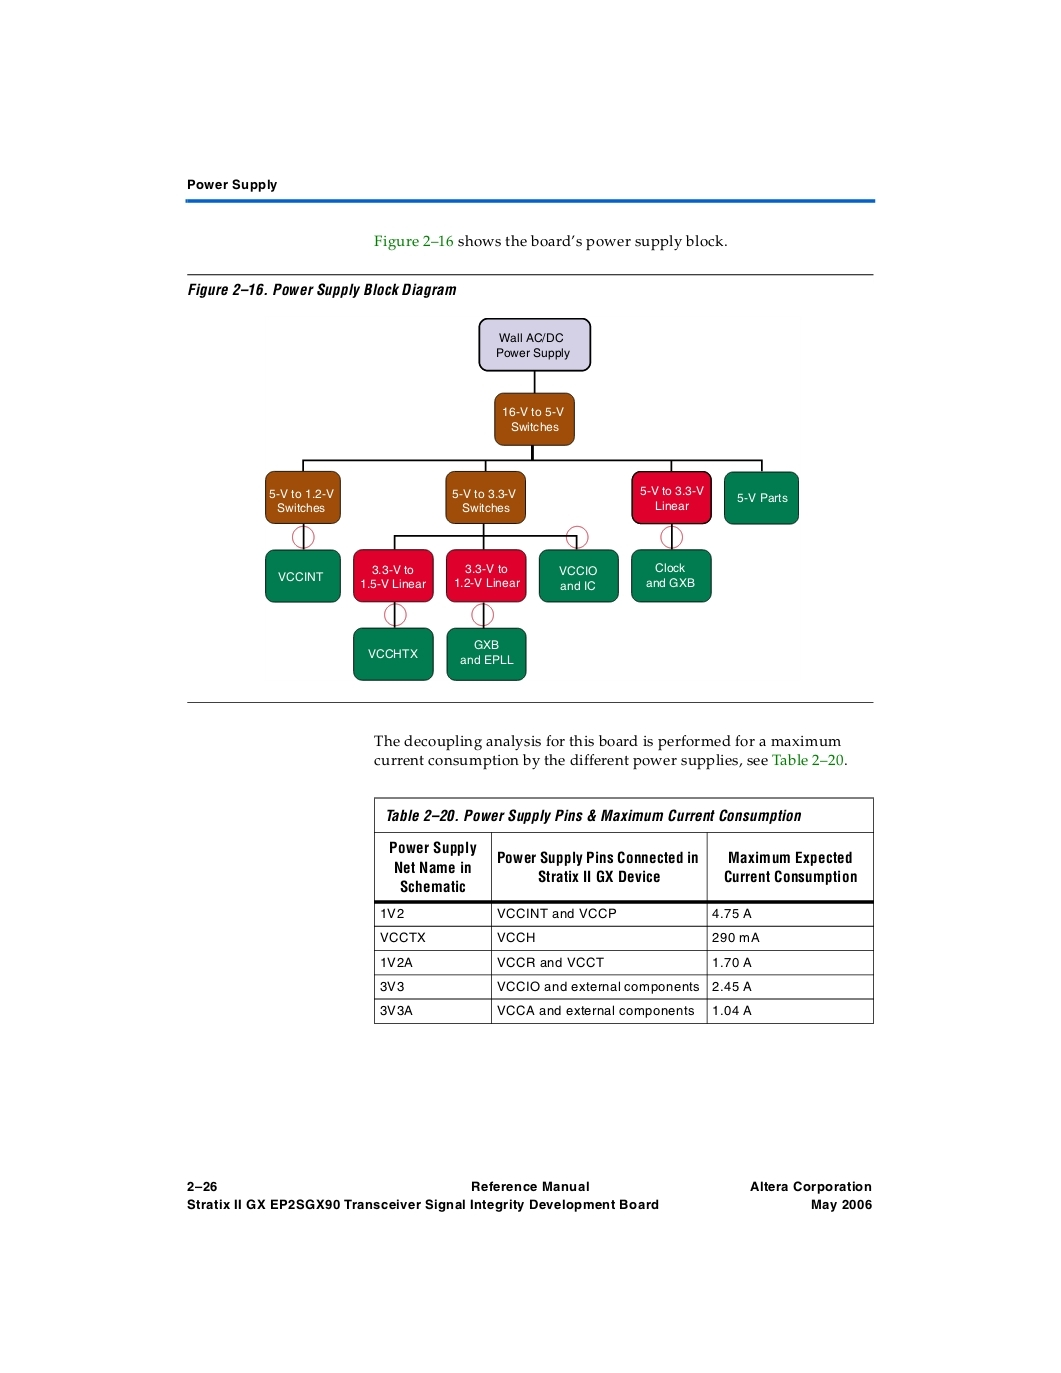Table: (374, 795, 873, 1024)
figure: (265, 317, 798, 681)
